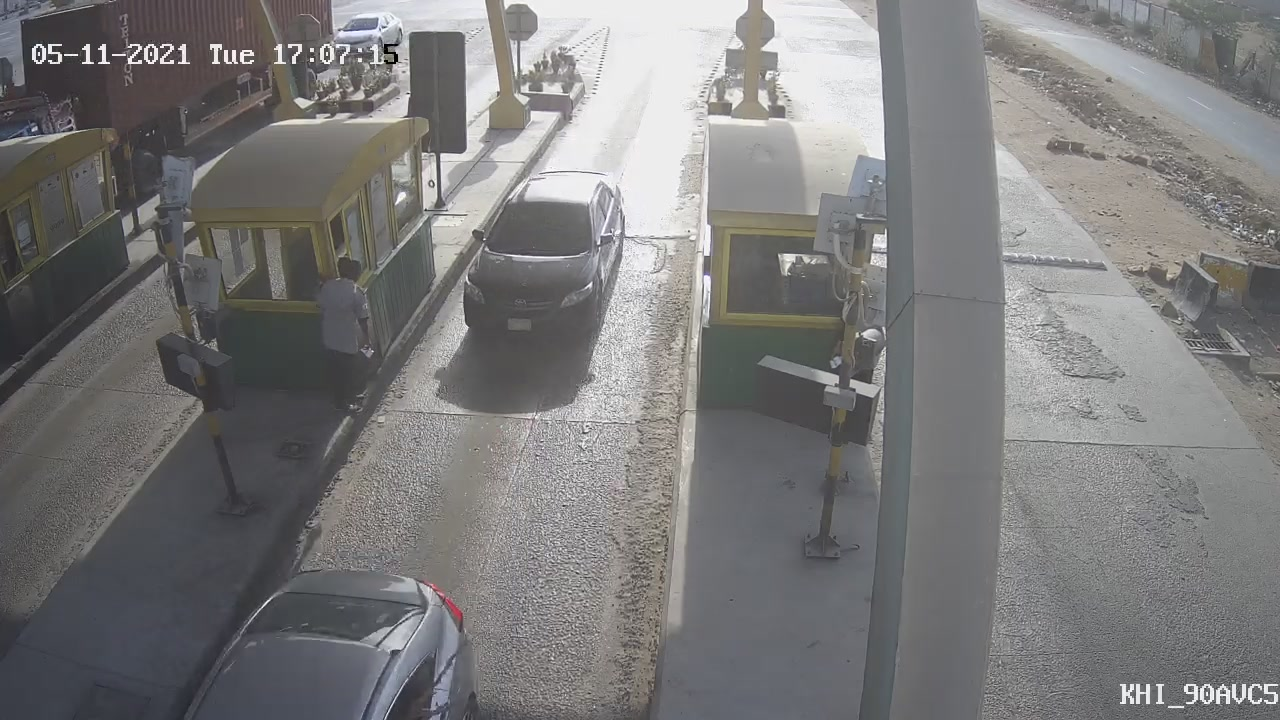F1: (443, 153, 639, 365)
